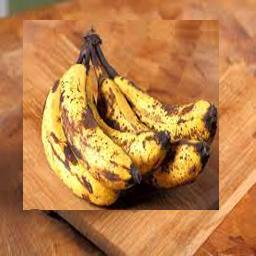Banana Rotten: (23, 21, 219, 211)
